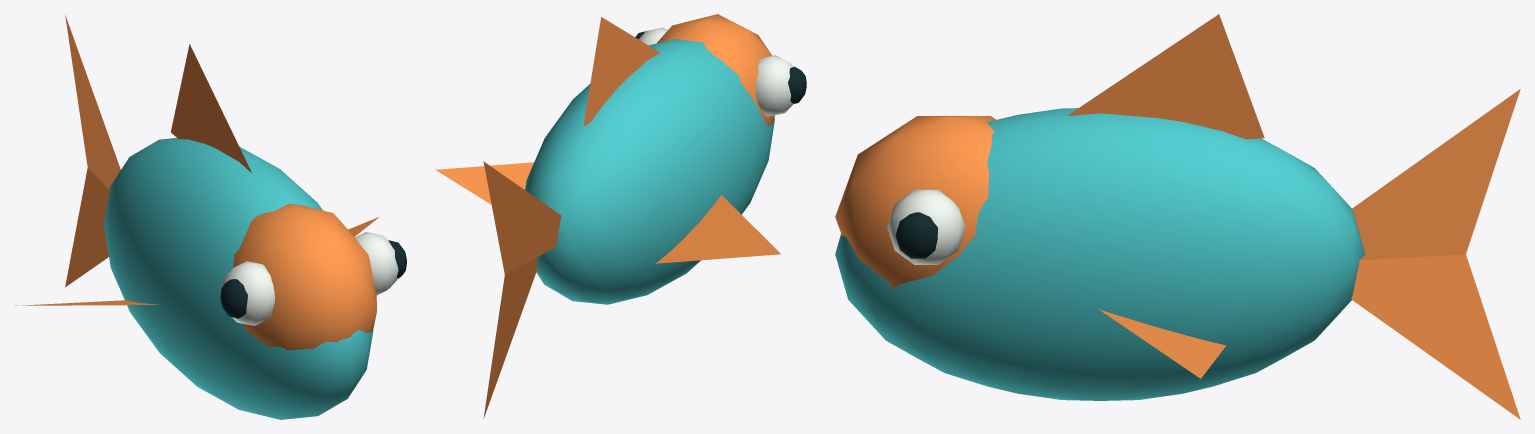
Rendered from fish.glb.
3 views of the same model, side by side, from view 1: azimuth 30°, elevation 25°; view 2: azimuth 150°, elevation 25°; view 3: azimuth 270°, elevation 25° (orthographic). The views are drawn at different scales.
Visible parts, largest first — view 1: fish; view 2: fish; view 3: fish.
Part boxes in pixels (<box>): fish: <box>15,14,406,419</box>; fish: <box>435,14,806,418</box>; fish: <box>835,14,1520,419</box>.
Bounding box in the file's own units: 0.56 × 0.49 × 0.75.
